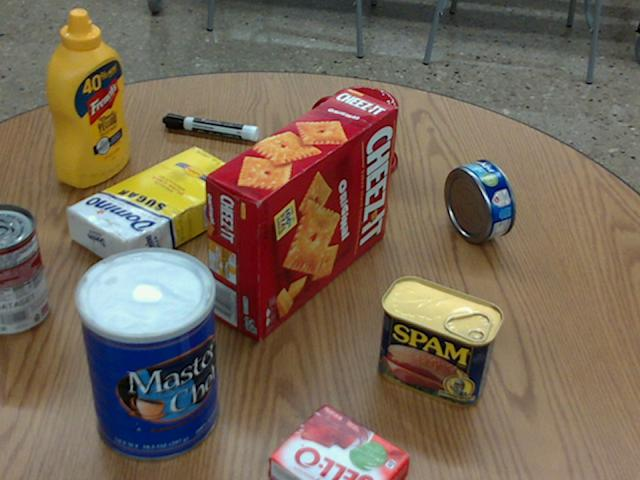cracker_box: (207, 88, 396, 338)
gelatin_box: (267, 404, 410, 479)
large_marker: (163, 112, 258, 140)
master_chef_can: (75, 247, 217, 461)
mug: (312, 86, 397, 179)
mustard_bottle: (48, 10, 128, 187)
potted_meat_can: (377, 275, 502, 406)
sugar_box: (66, 144, 249, 273)
tomato_soup_can: (0, 203, 48, 333)
tuna_fish_can: (443, 159, 514, 241)
